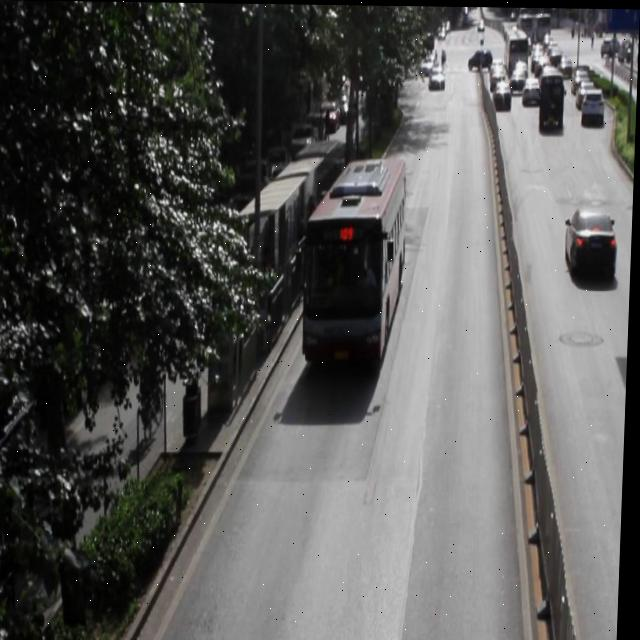car: (565, 205, 617, 277)
van: (303, 155, 408, 362)
